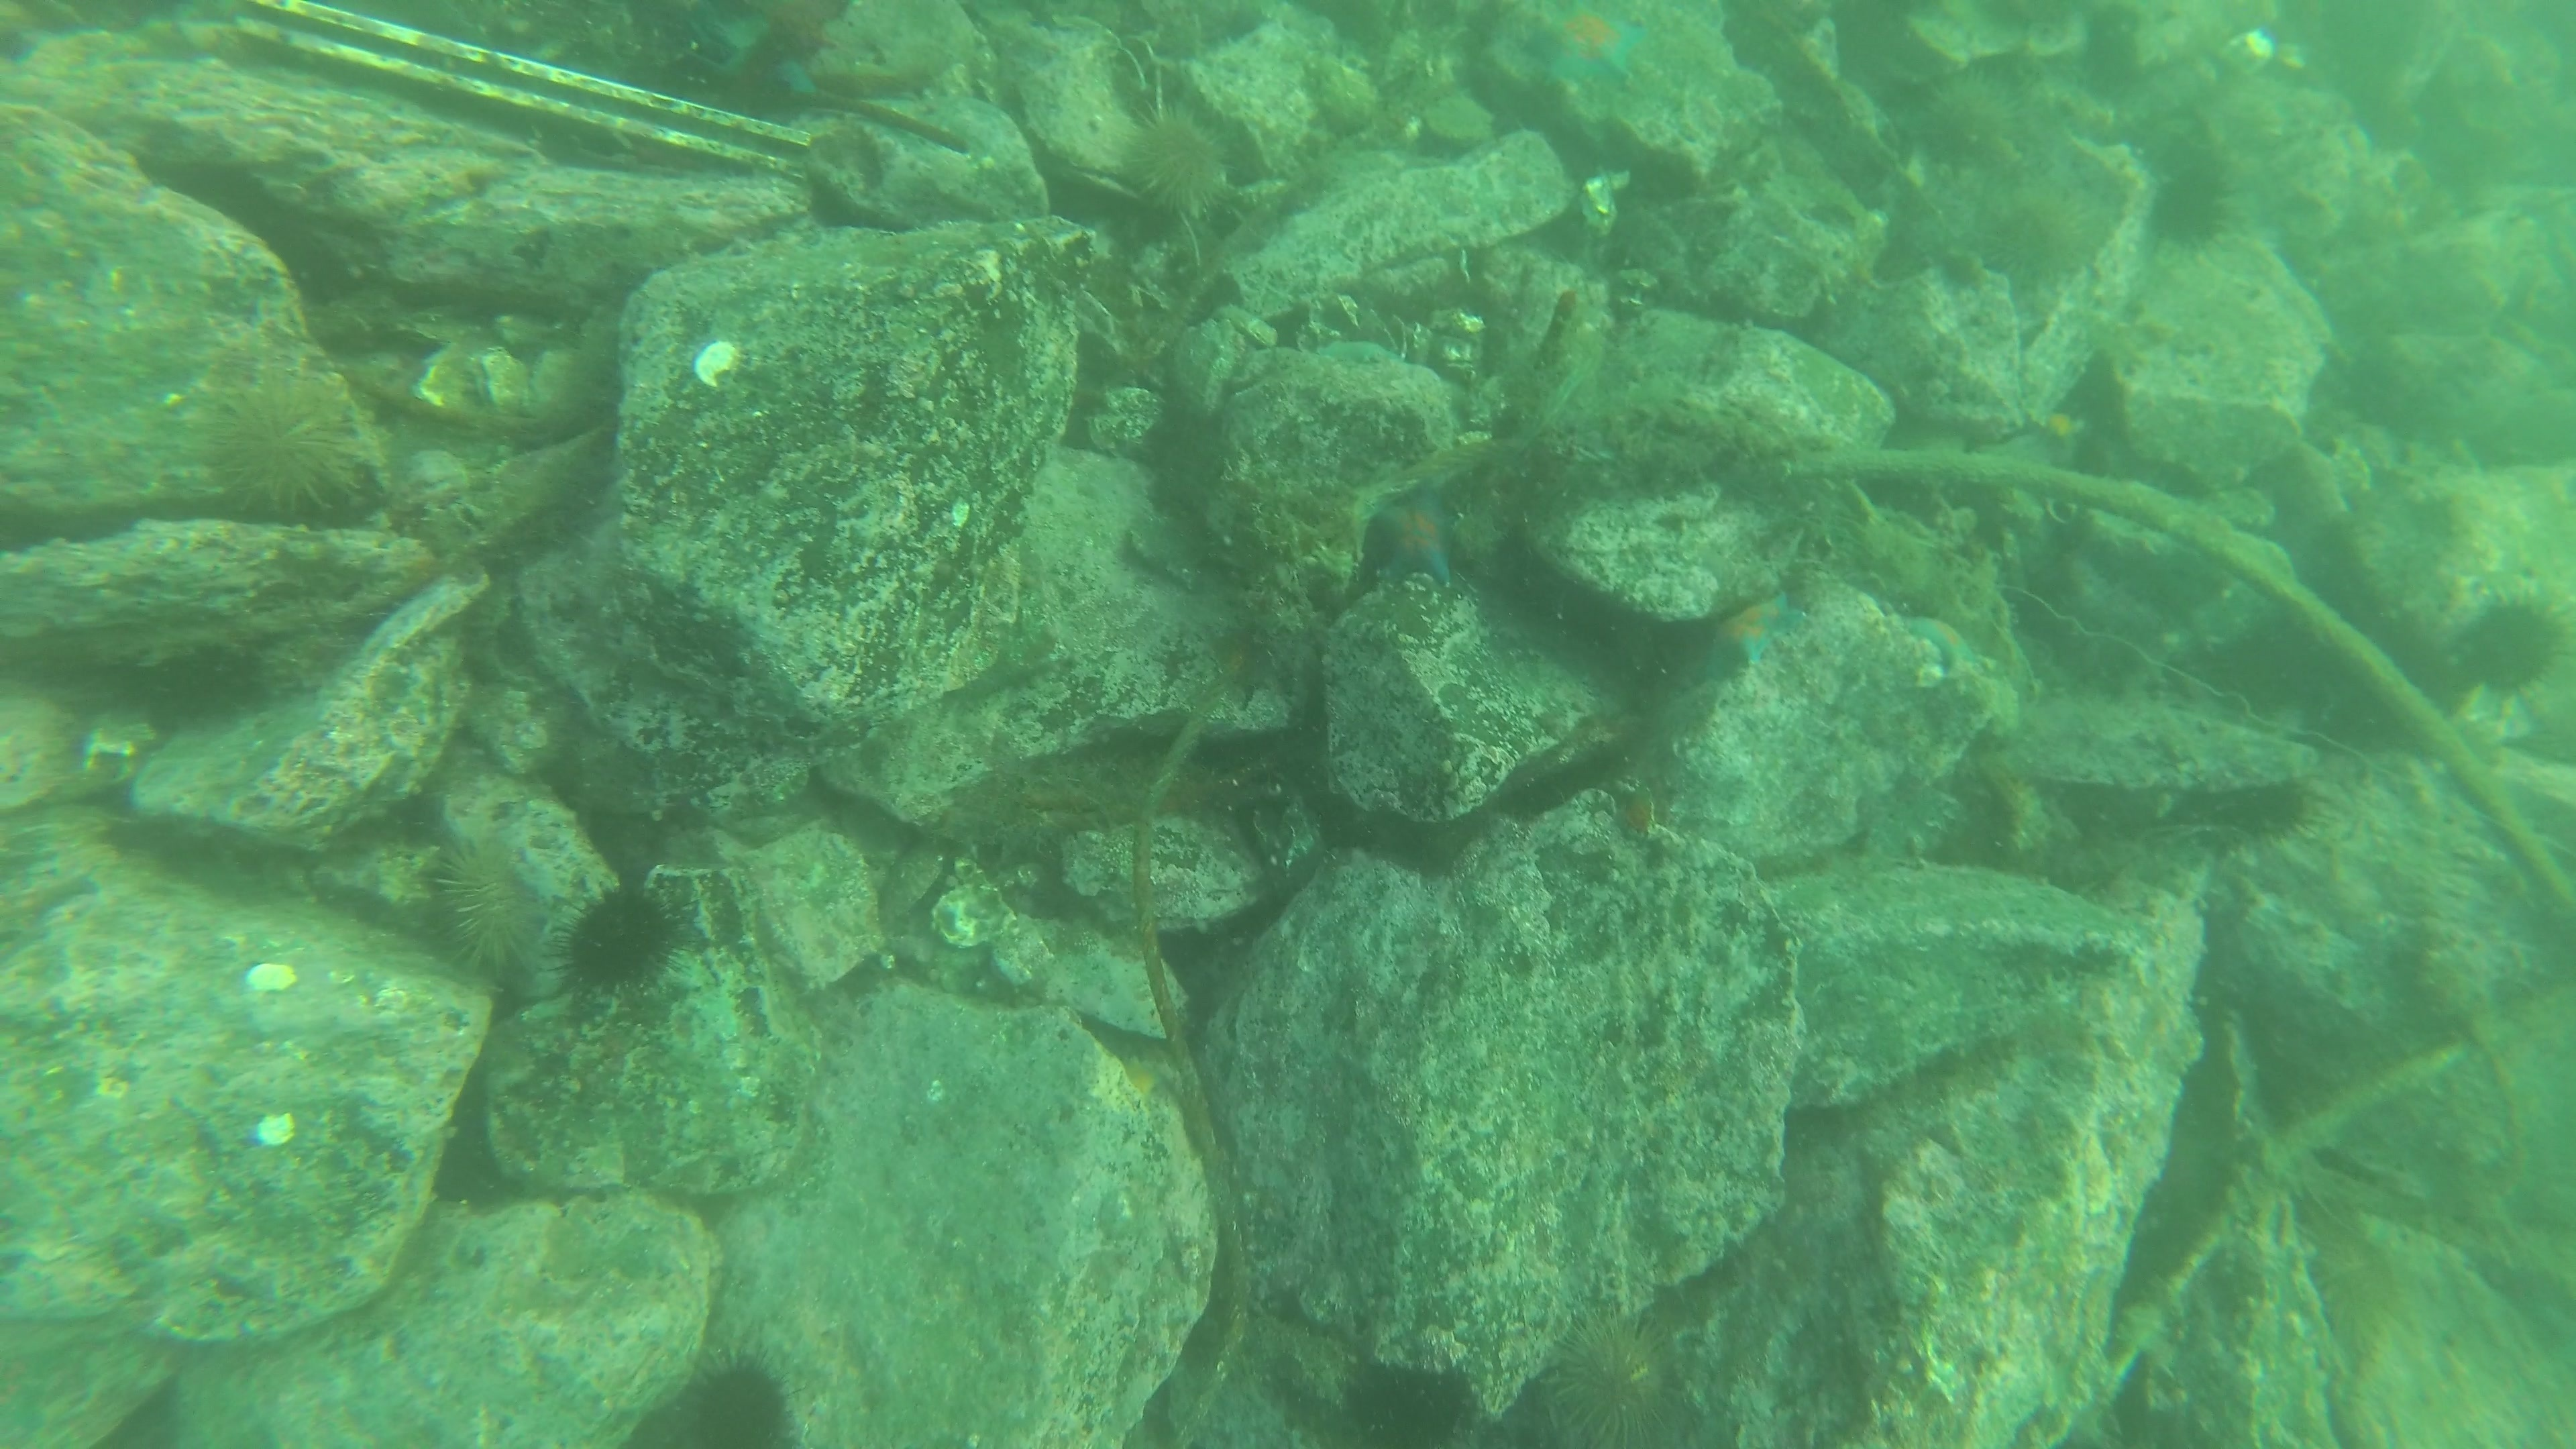echinus: (193, 373, 370, 527), (1537, 1302, 1700, 1449), (418, 830, 554, 984), (1106, 97, 1246, 230), (1971, 175, 2109, 294), (554, 878, 686, 1000), (1902, 69, 2036, 177), (2449, 586, 2569, 702), (665, 1348, 803, 1447), (1338, 1352, 1483, 1445), (2185, 766, 2323, 847), (2143, 154, 2238, 257)
starfish: (1355, 476, 1476, 596), (1691, 575, 1815, 686), (1520, 0, 1656, 97), (1893, 600, 1999, 690)
